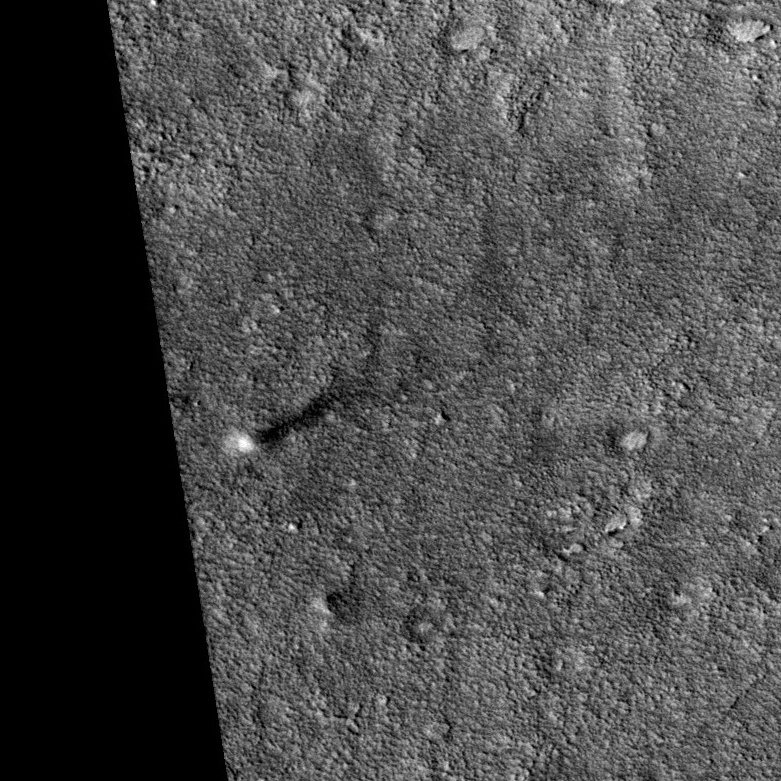dust_devil: (224, 384, 346, 459)
